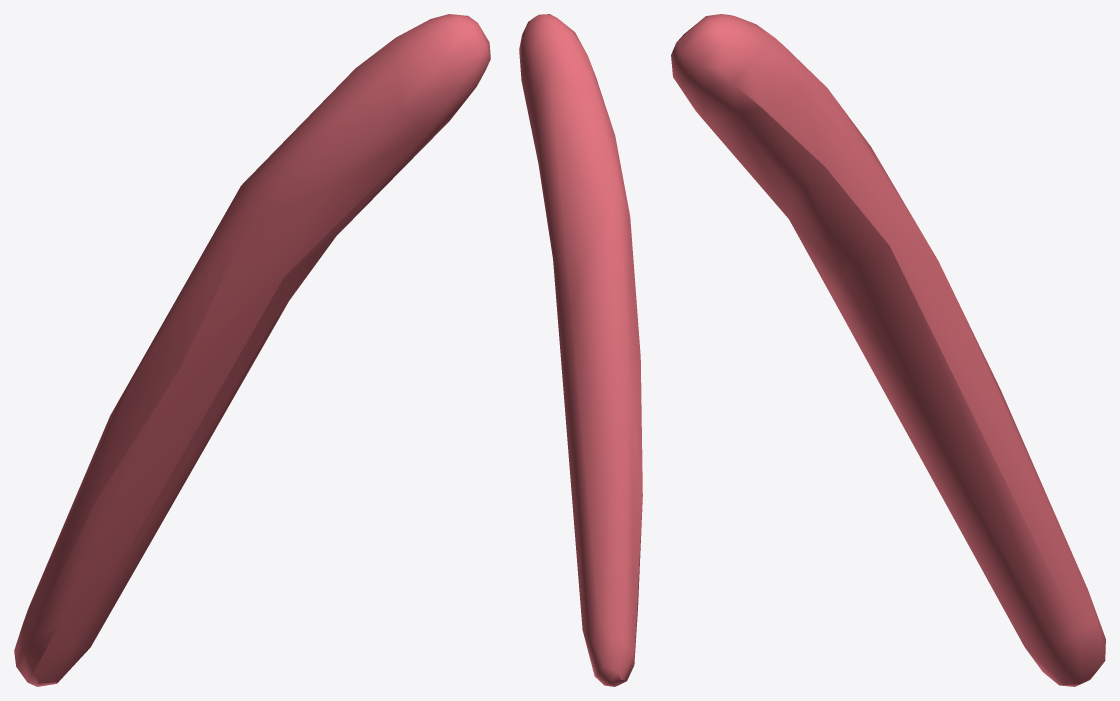
Rendered from fma9428_fj3048.glb.
3 renders of one model, left to right at view 1: azimuth 30°, elevation 25°; view 2: azimuth 150°, elevation 25°; view 3: azimuth 270°, elevation 25°, orthographic. The views are drawn at different scales.
Visible parts, largest first — view 1: FMA9428_FJ3048; view 2: FMA9428_FJ3048; view 3: FMA9428_FJ3048.
Boxes of the visible parts, x1,y1,x2,y2 form: FMA9428_FJ3048: [14, 14, 490, 686]; FMA9428_FJ3048: [519, 14, 642, 686]; FMA9428_FJ3048: [671, 14, 1105, 686].
Bounding box in the file's own units: 0.00758 × 0.0171 × 0.00844.
